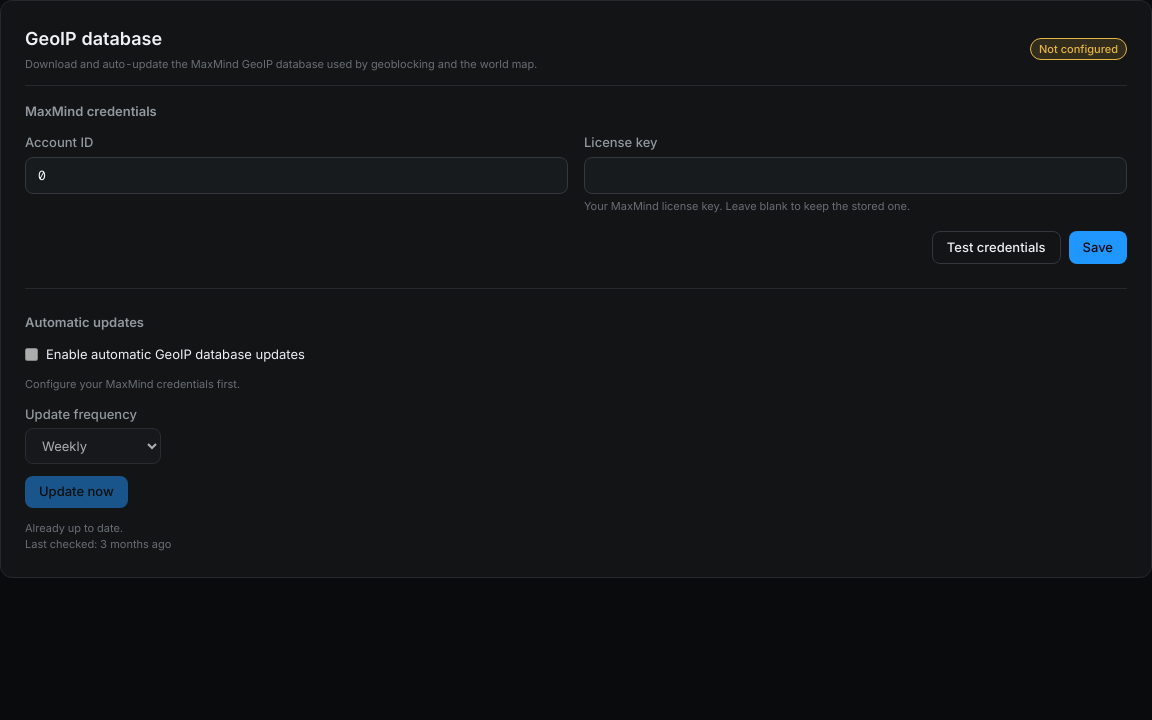
GeoIPSettingsSection — test credentials › renders role=status on reachable:true
In the password field labelled "License key": (856, 175) [584, 156, 1127, 194], type "abc"
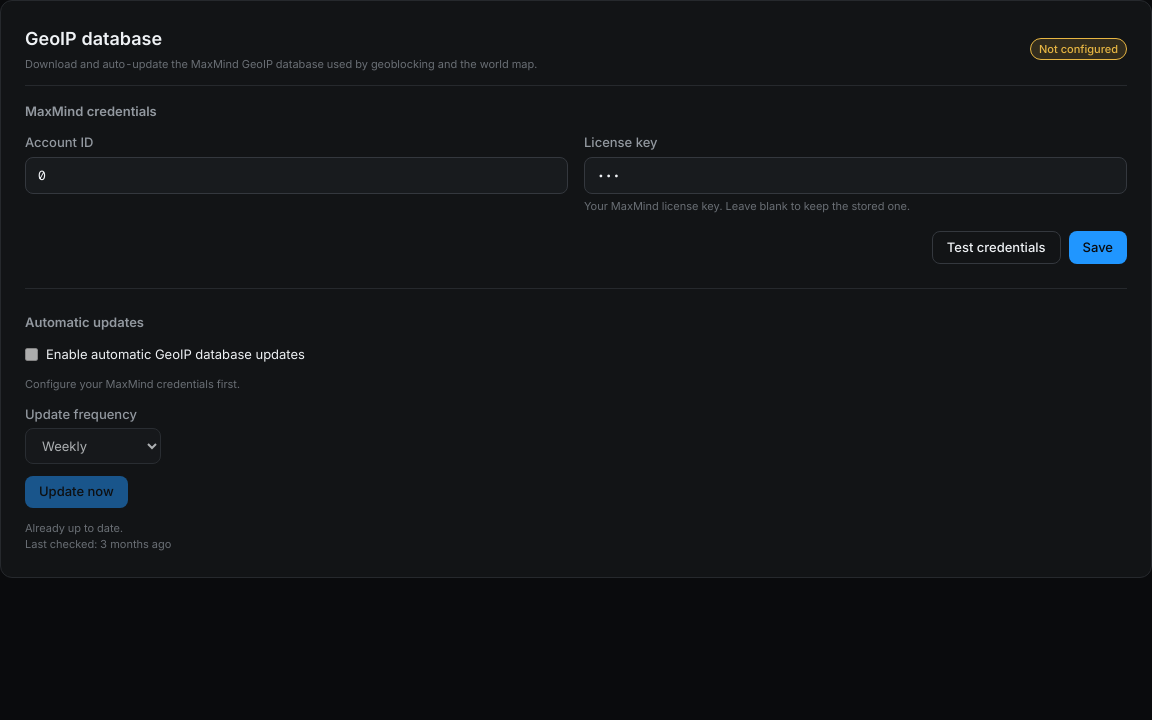
Click the button "Test credentials": (996, 247) [932, 230, 1061, 264]
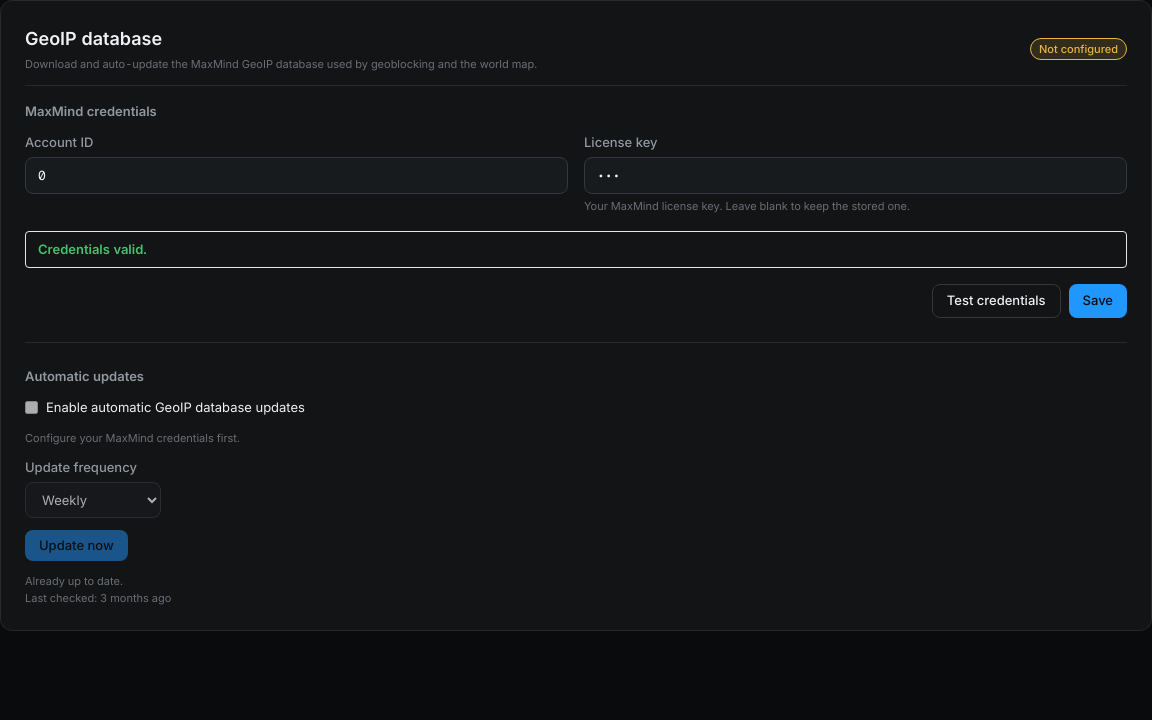
Now the message "Credentials valid." is shown, box [25, 230, 1127, 268]
